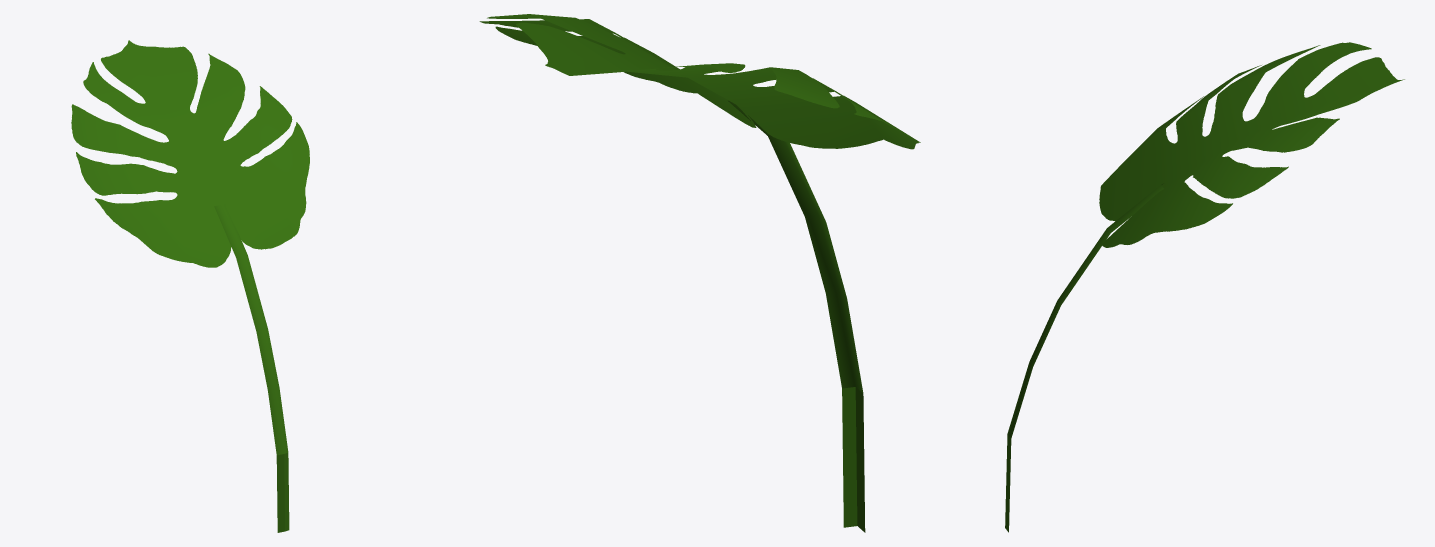
The model's file is Leaf_1.fbx.
The picture shows the model from 3 angles, left to right: view 1: azimuth 30°, elevation 25°; view 2: azimuth 150°, elevation 25°; view 3: azimuth 270°, elevation 25°; orthographic projection. The views are drawn at different scales.
Parts seen in each view (by area): view 1: pPlane3; view 2: pPlane3; view 3: pPlane3.
Part boxes in pixels (x1,y1,x2,y2): pPlane3: (71,40,309,532); pPlane3: (479,14,920,532); pPlane3: (1005,42,1404,532).
Size of the model in its own units: 4.34 by 6.99 by 5.57.
Materials: 1 (1 with a texture image).
